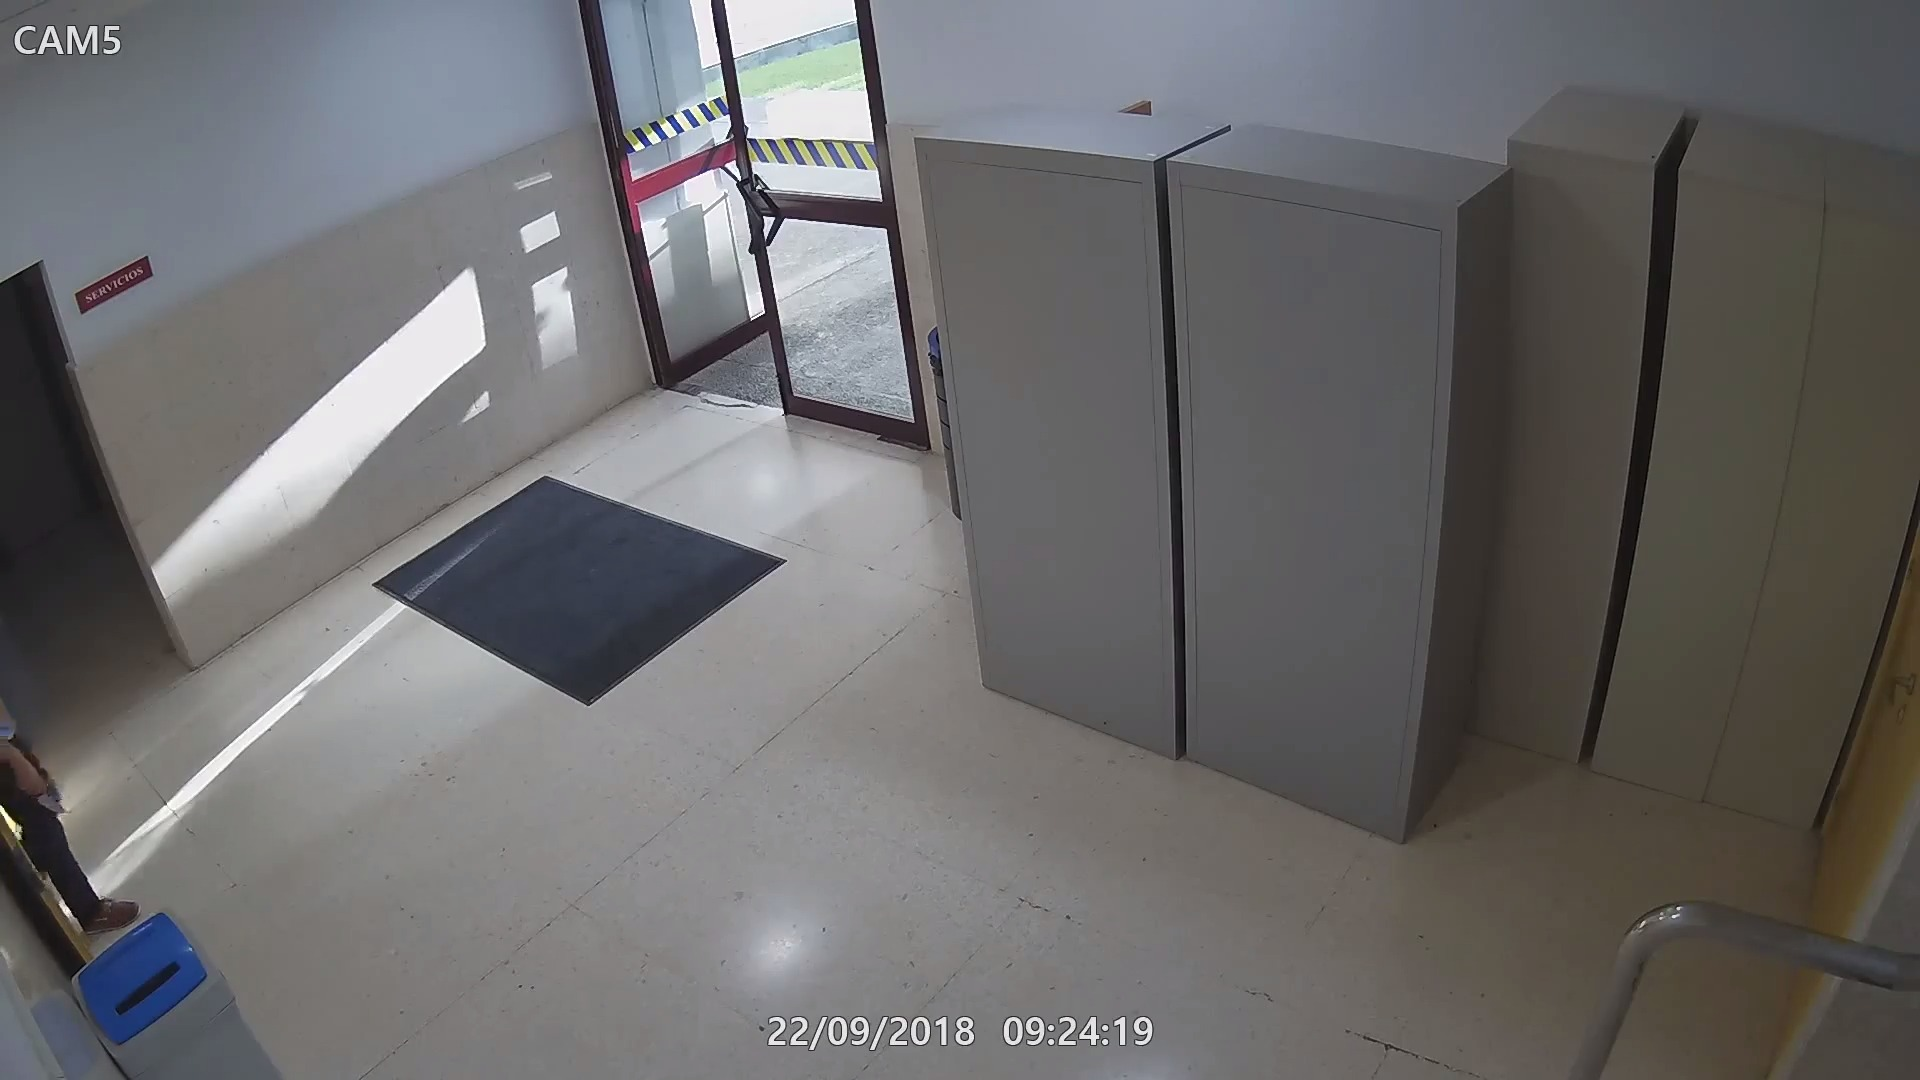Knife: (7, 758, 70, 819)
